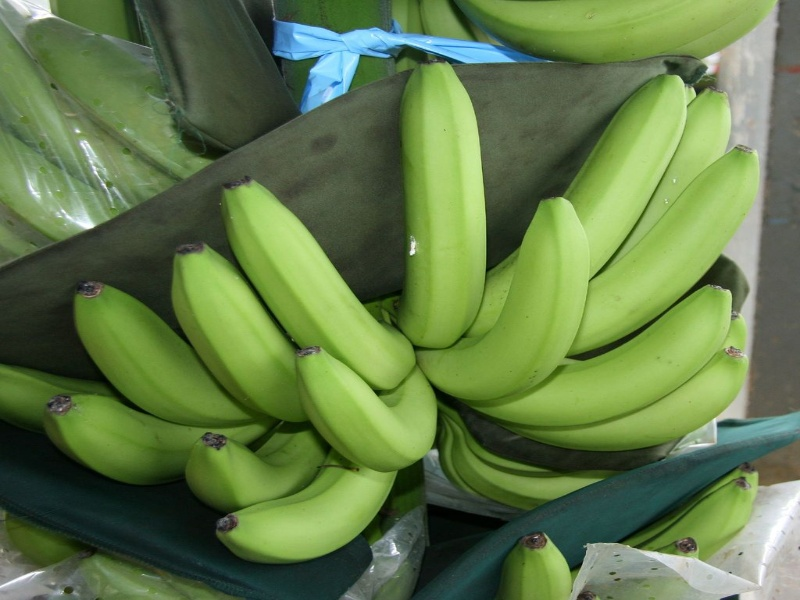banana: (71, 275, 272, 433), (388, 46, 491, 351)
